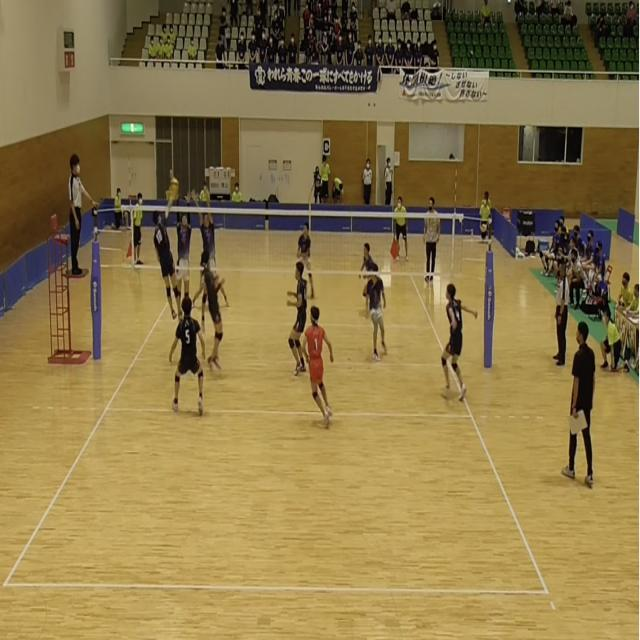spike: (148, 173, 186, 320)
